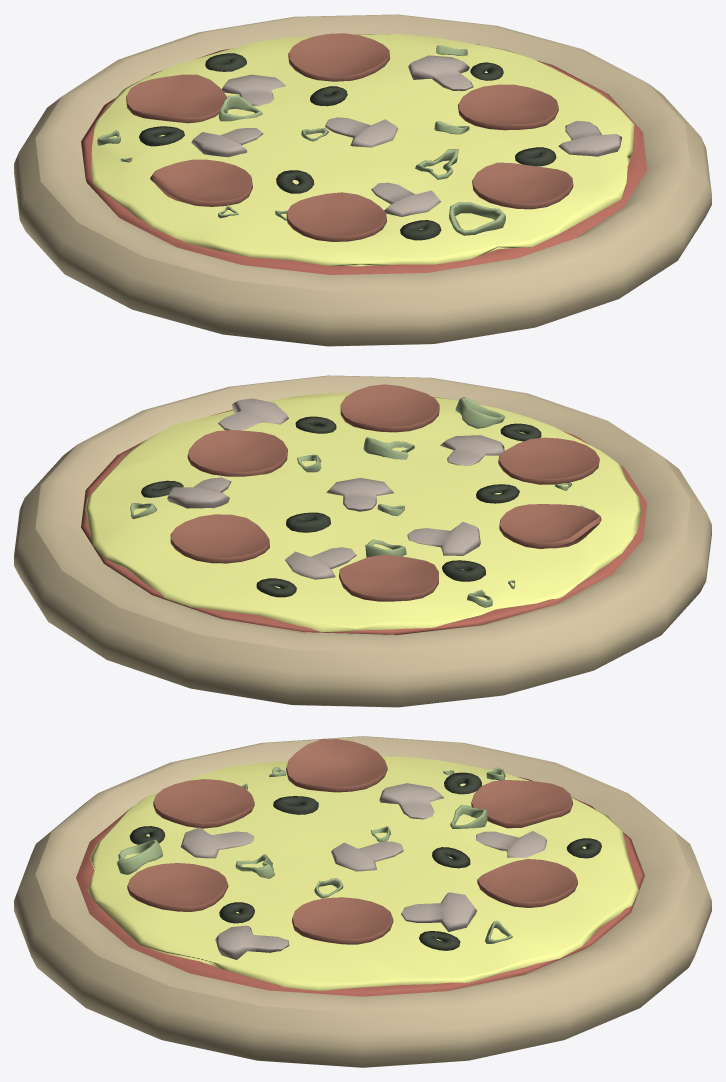
Rendered from thick_mushroom_sausage.gltf.
The picture shows the model from 3 angles, top to bottom: view 1: azimuth 30°, elevation 25°; view 2: azimuth 150°, elevation 25°; view 3: azimuth 270°, elevation 25°; orthographic projection.
Visible parts, largest first — view 1: thick, cheese, polySurface143, polySurface145, polySurface147, polySurface146, polySurface142, polySurface144, polySurface128, polySurface162, polySurface129, polySurface163 (+11 smaller); view 2: thick, cheese, polySurface147, polySurface142, polySurface145, polySurface144, polySurface143, polySurface146, polySurface130, polySurface162, polySurface161, polySurface128 (+10 smaller); view 3: thick, cheese, polySurface146, polySurface144, polySurface143, polySurface142, polySurface145, polySurface147, polySurface128, polySurface162, polySurface130, polySurface163 (+10 smaller).
Part boxes in pixels (x1,y1,x2,y2): thick: [14, 14, 711, 346]; cheese: [91, 34, 634, 266]; polySurface143: [286, 192, 386, 241]; polySurface145: [126, 74, 226, 123]; polySurface147: [288, 33, 389, 81]; polySurface146: [150, 159, 252, 206]; polySurface142: [458, 84, 558, 130]; polySurface144: [472, 162, 573, 209]; polySurface128: [408, 55, 473, 90]; polySurface162: [558, 121, 621, 156]; polySurface129: [371, 182, 440, 216]; polySurface163: [325, 117, 397, 147]; thick: [14, 375, 711, 707]; cheese: [85, 393, 641, 631]; polySurface147: [170, 514, 269, 563]; polySurface142: [187, 430, 287, 476]; polySurface145: [339, 554, 438, 601]; polySurface144: [340, 384, 439, 432]; polySurface143: [498, 437, 599, 484]; polySurface146: [499, 504, 601, 548]; polySurface130: [407, 522, 480, 555]; polySurface162: [218, 398, 288, 430]; polySurface161: [285, 547, 356, 579]; polySurface128: [167, 477, 231, 508]; thick: [14, 736, 711, 1067]; cheese: [87, 756, 638, 990]; polySurface146: [286, 739, 387, 792]; polySurface144: [127, 863, 228, 911]; polySurface143: [153, 779, 254, 828]; polySurface142: [292, 897, 393, 944]; polySurface145: [471, 780, 572, 828]; polySurface147: [477, 859, 577, 907]; polySurface128: [401, 892, 476, 931]; polySurface162: [215, 925, 289, 959]; polySurface130: [379, 783, 443, 819]; polySurface163: [331, 841, 403, 871].
Size of the model in its own units: 0.1035 by 0.0141 by 0.1035.
